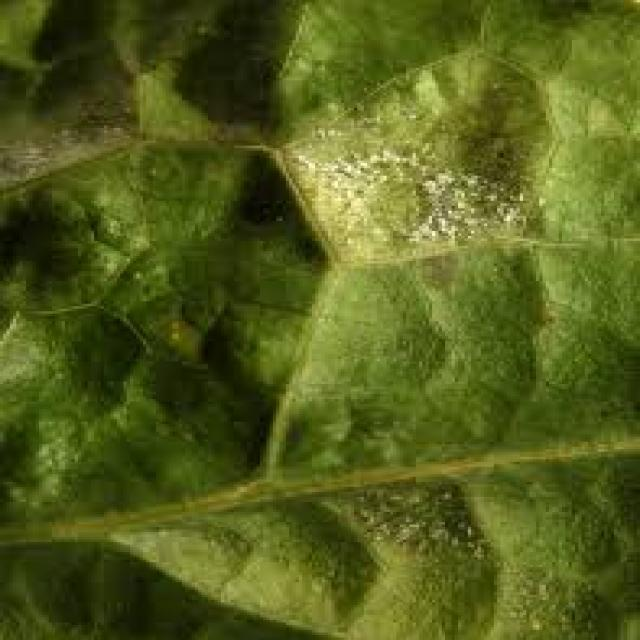Powdery_mildew_on_lettuce: (16, 69, 612, 309)
